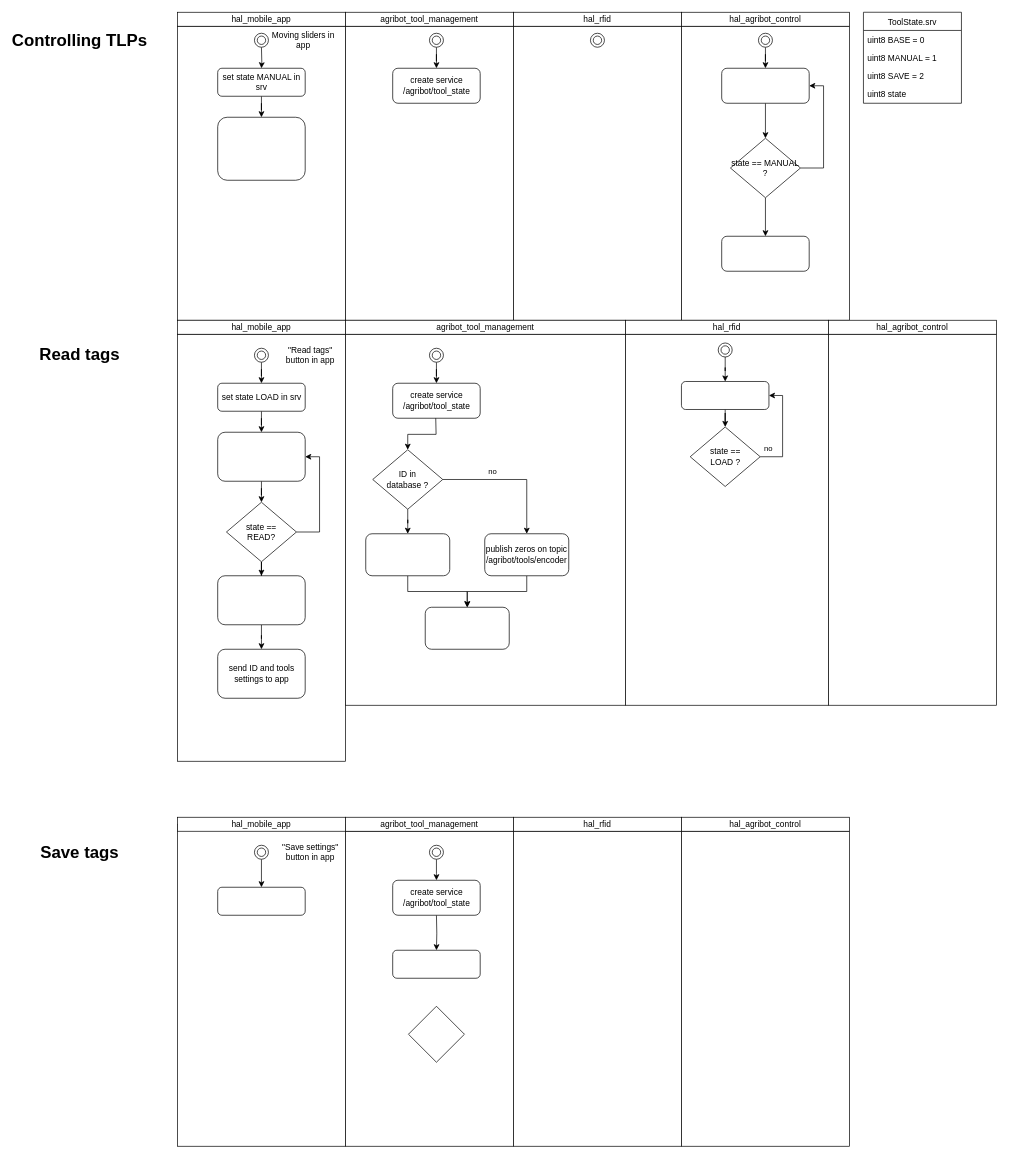
The diagram is 1009 pixels wide and 1159 high, and some of its shapes have lost their labels. The shapes that lost their labels are listed below. From the top down, each one's centre as x and y in pixels, then its label:
point 765,85: read /agribot/tool_management/state
point 261,148: publish to agribot/control/tool/front and agribot/control/tool/back
point 765,253: control TLPs
point 725,395: read /agribot/tool_state
point 261,456: read /agribot/tools/encoder
point 407,554: publish stored settings on topic /agribot/tools/encoder
point 261,600: request front and rear ID from hal_rfid/tags
point 467,628: set state READ
point 261,901: set state SAVE in srv
point 436,964: read state
point 436,1034: state == SAVE
